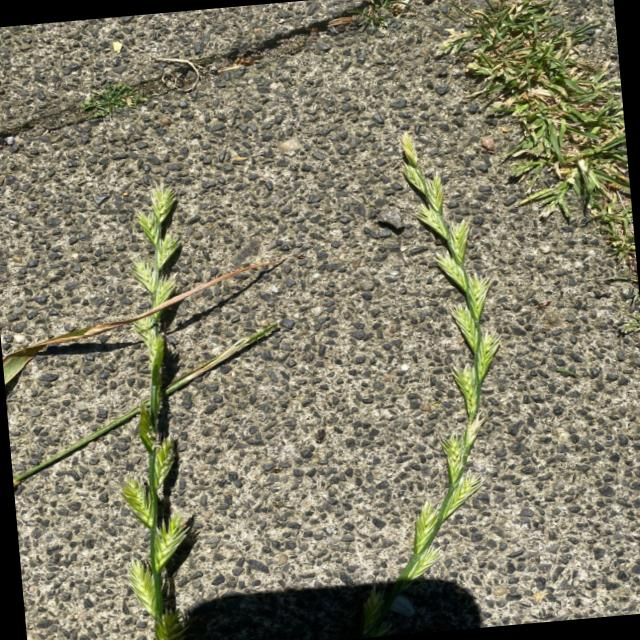Lolium: (0, 170, 329, 640), (317, 122, 530, 632)
